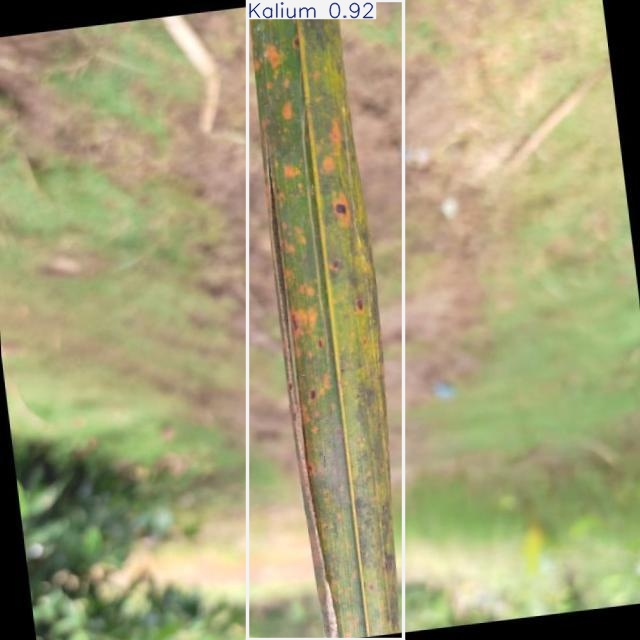Kalium: (248, 1, 403, 640)
